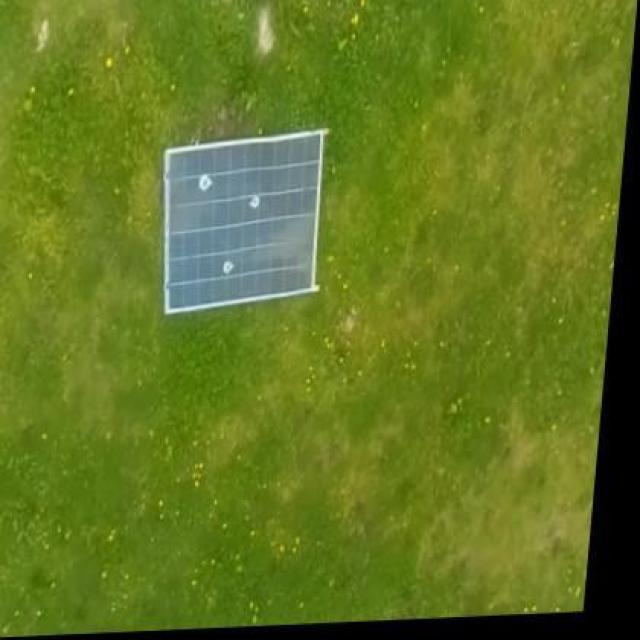soiled: (156, 129, 328, 317)
